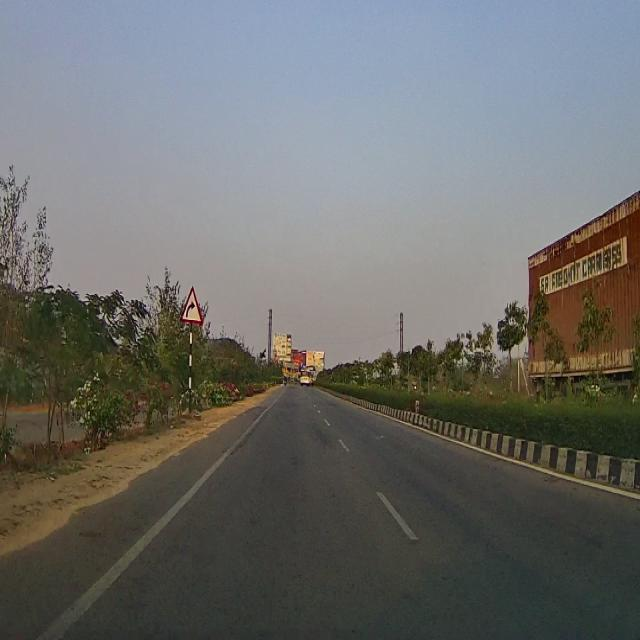sign board ahead at: (182, 284, 204, 329)
